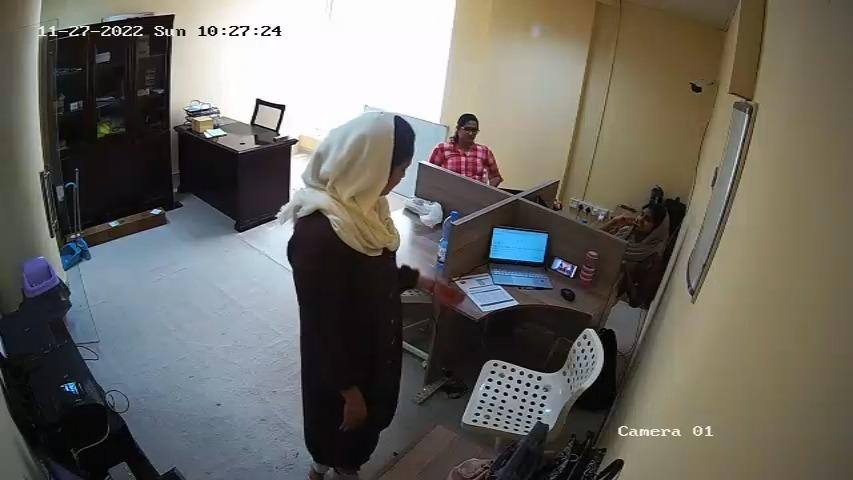no_apron: (292, 207, 402, 383)
